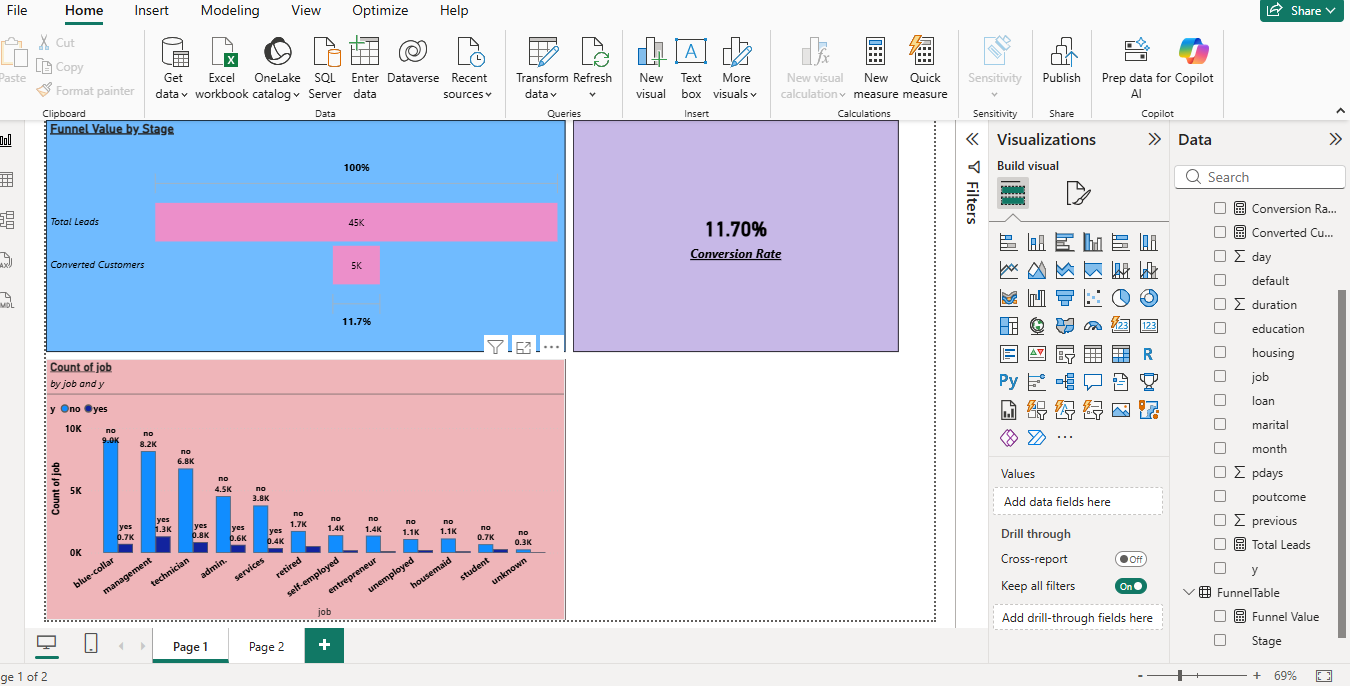

The dashboard page shown, as its layout file describes it:
{"tool":"powerbi","page":{"name":"Page 1","canvas":[1280,720],"ordinal":0},"visuals":[{"type":"funnel","fields":{"Category":["FunnelTable.Stage"],"Y":["FunnelTable.Funnel Value"]},"box":[0,0,747.5,334.3],"z":0},{"type":"card","fields":{"Values":["bank-full.Conversion Rate"]},"box":[759.3,0,468.7,334.3],"z":1},{"type":"clusteredColumnChart","fields":{"Category":["bank-full.job"],"Y":["CountNonNull(bank-full.job)"],"Series":["bank-full.y"]},"box":[0,344.4,747.5,376.3],"z":2}]}

Visuals, with their boxes on the page's 1280x720 design canvas (x1, y1, x2, y2). These are canvas units, not pixel positions in the 1350x686 screenshot, which may show the page scaled, cropped or inside an application window:
funnel - FunnelTable.Stage x FunnelTable.Funnel Value: <region>0, 0, 748, 334</region>
card - bank-full.Conversion Rate: <region>759, 0, 1228, 334</region>
clusteredColumnChart - bank-full.job x CountNonNull(bank-full.job): <region>0, 344, 748, 721</region>
